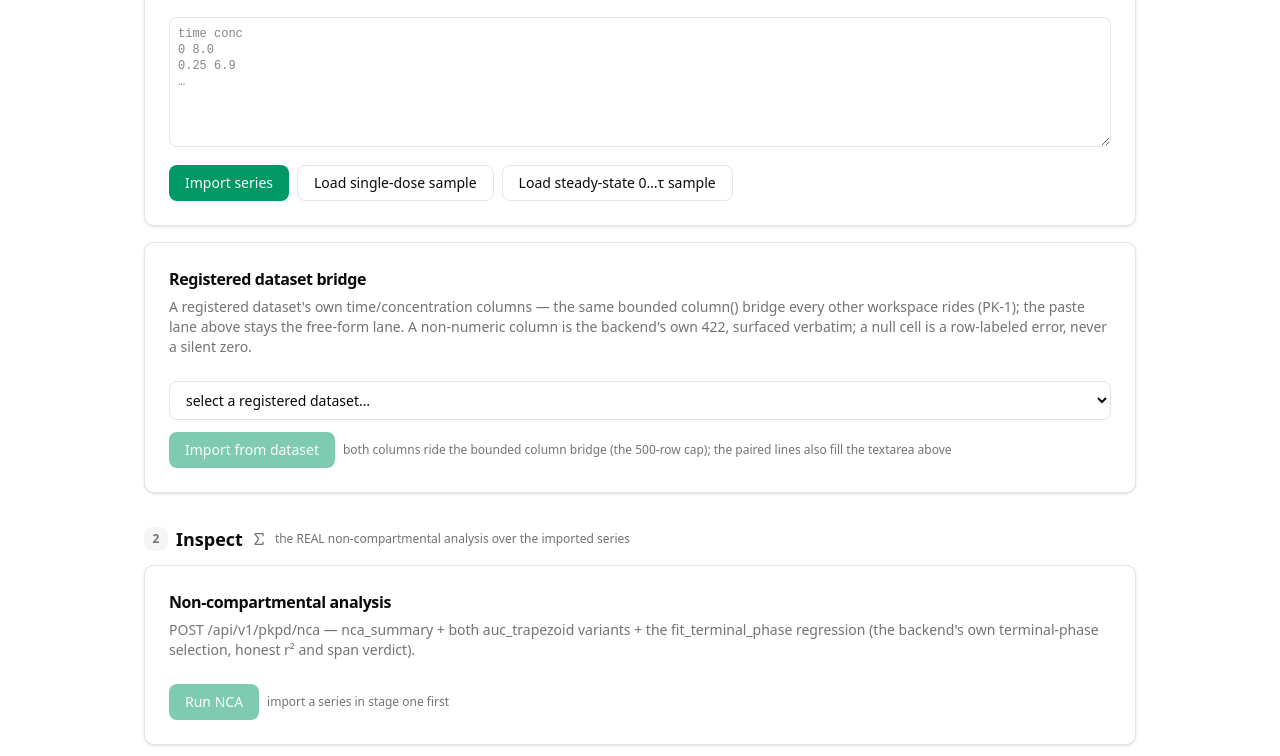
Test: PKPDPage stage 1 — the registered dataset bridge (PK-1) › populates the series view from the dataset's own time/conc columns — row-count and t/C ranges asserted
(page scrolled)
Select "pk_profile.csv · 5 rows · 3 columns" in the dropdown named "the registered dataset" at (640,400), box [169,381,1111,420]
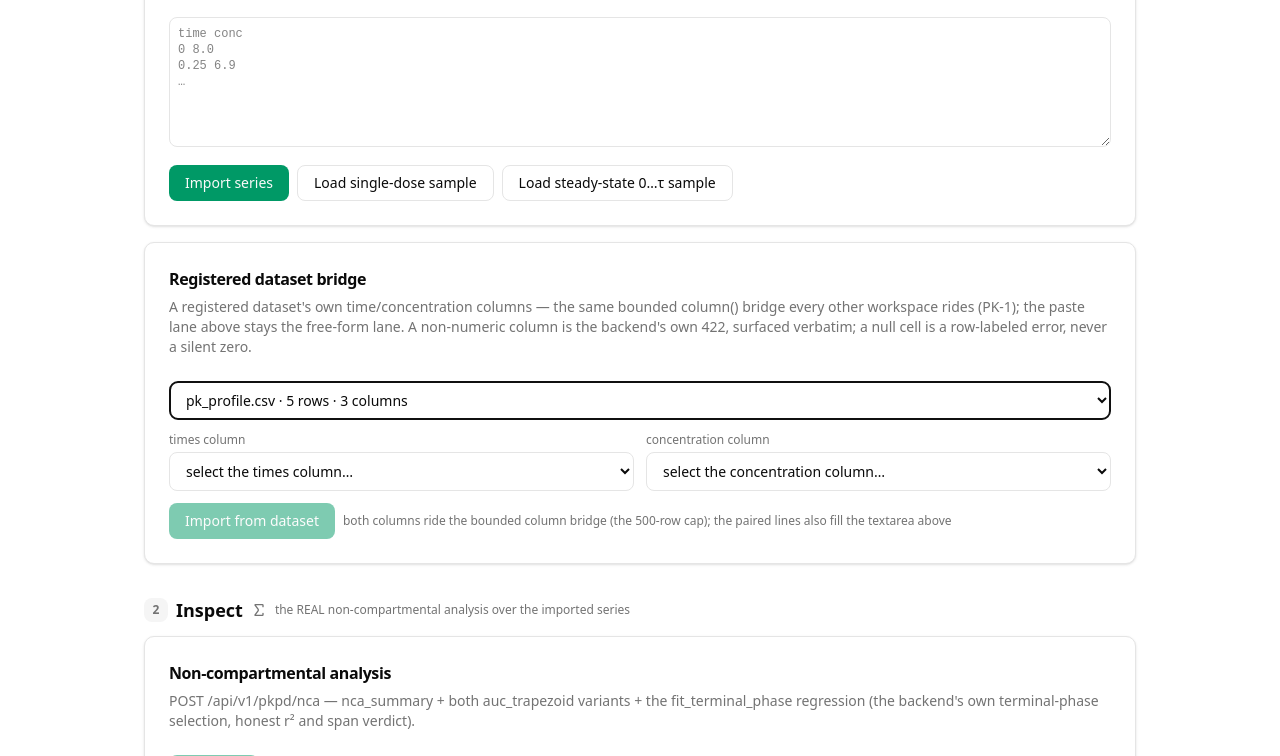
Result: the dropdown named "the times column" is shown
Select "time" in the dropdown named "the times column" at (402,472), box [169,452,634,491]
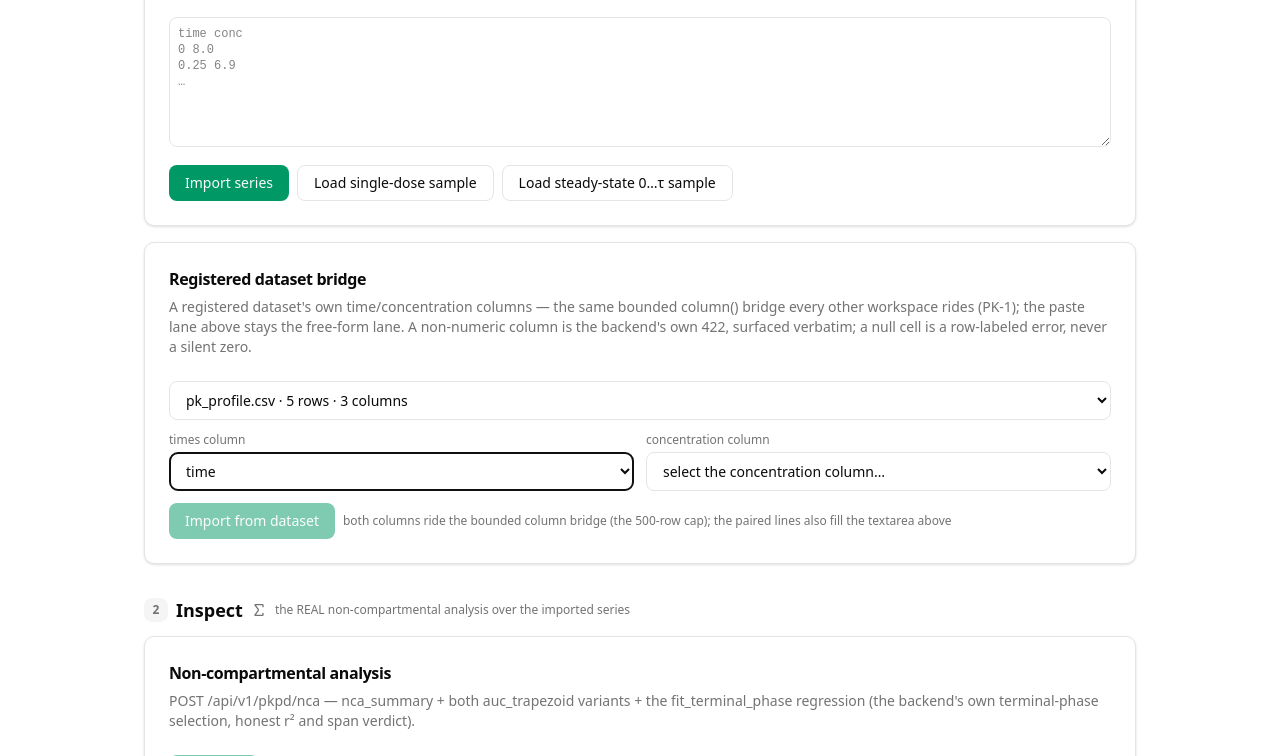
Select "conc" in the dropdown named "the concentration column" at (878,472), box [646,452,1111,491]
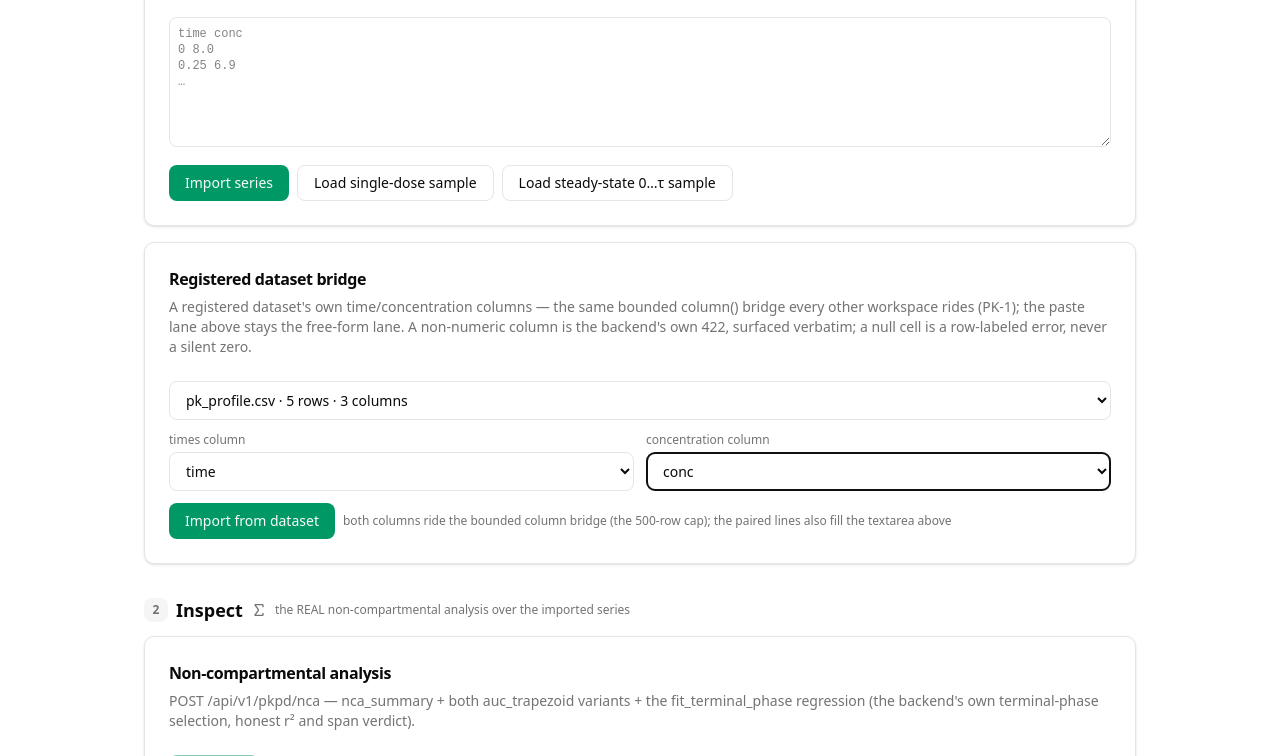
Click the button "Import from dataset".
click(252, 521)  # box [169,503,335,539]
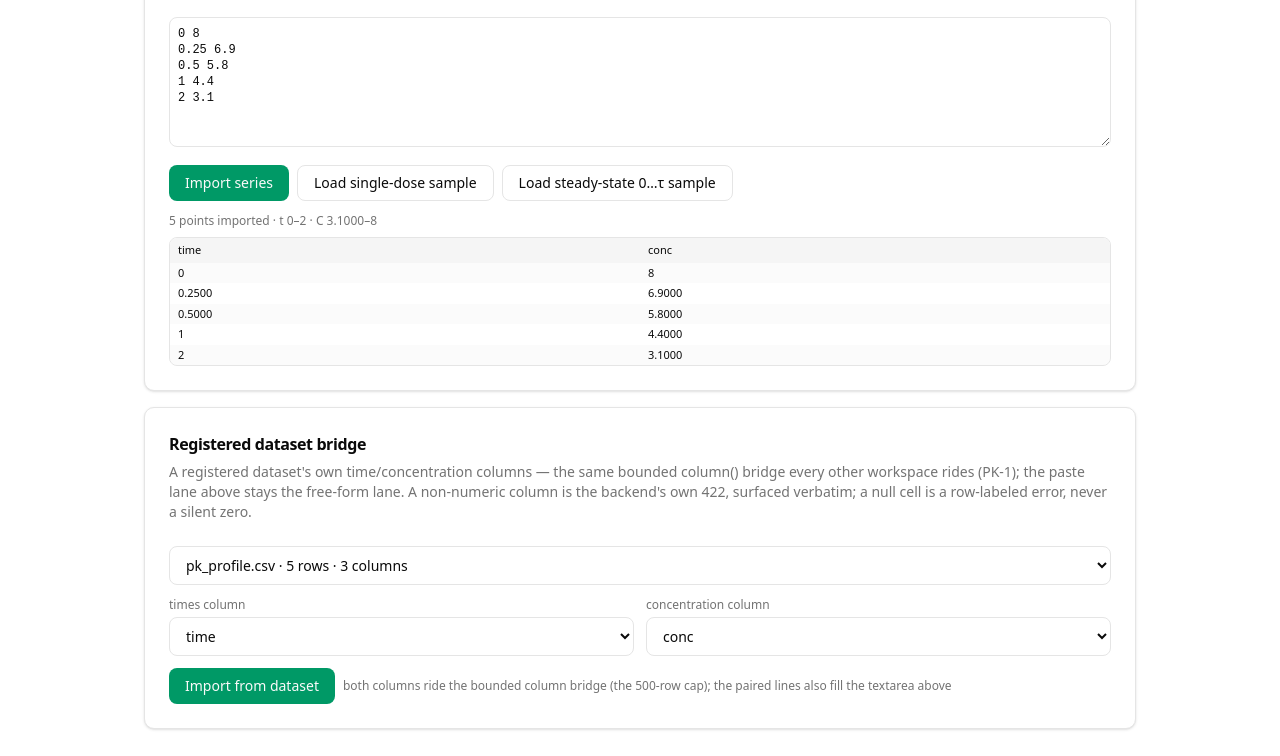
Result: the text "5 points imported · t 0–2 · C 3.1000–8" is shown at [169,212,377,229]
